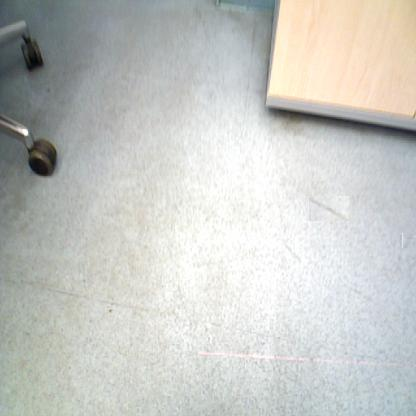mark: (308, 195, 349, 221), (401, 234, 415, 247), (106, 307, 114, 314), (46, 86, 50, 94)
